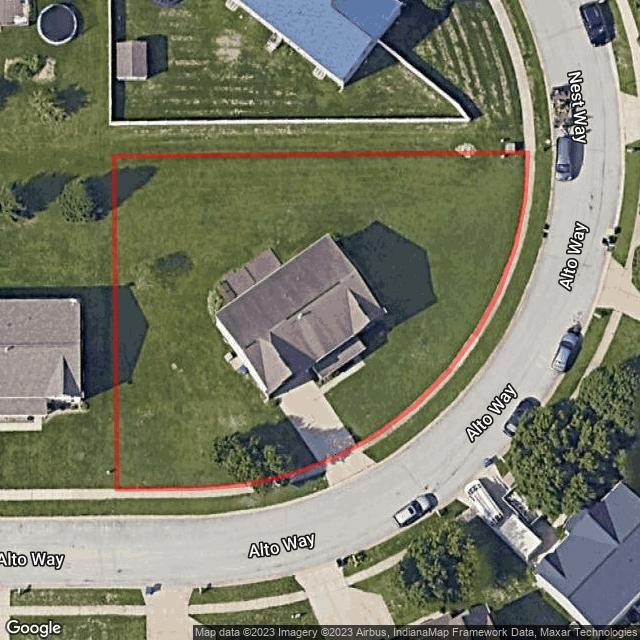Driveway: (279, 381, 355, 461)
Extra Driveway: (326, 446, 380, 486)
Extra Lawn: (365, 151, 551, 461), (120, 474, 330, 516)
House: (206, 232, 384, 398)
